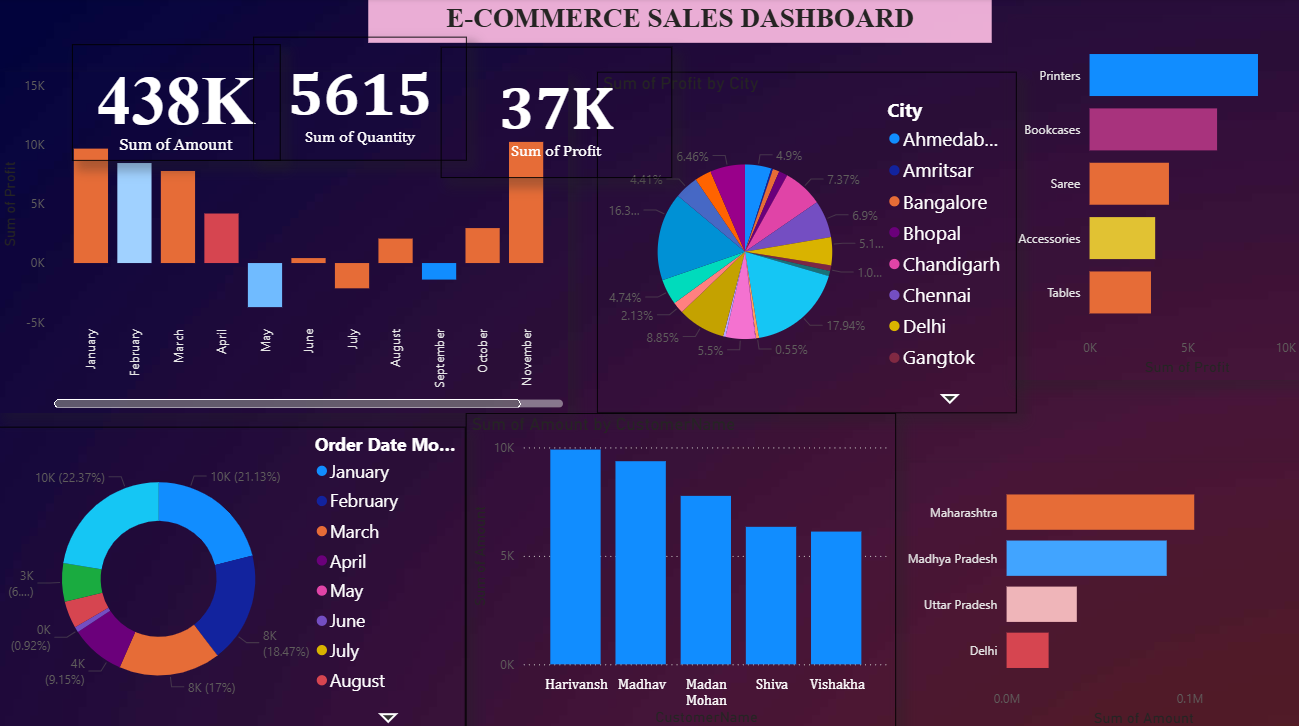

This screenshot's page, from the dashboard's own definition file:
{"tool":"powerbi","page":{"name":"Page 1","canvas":[1280,720],"ordinal":0},"visuals":[{"type":"textbox","box":[364.4,0,612.3,44.2],"z":0},{"type":"columnChart","fields":{"Category":["Orders.Order Date.Variation.Date Hierarchy.Month"],"Y":["Details.Profit"]},"box":[0,72.4,560.7,335],"z":1000},{"type":"donutChart","fields":{"Y":["Details.Profit"],"Category":["Orders.Order Date.Variation.Date Hierarchy.Month"]},"box":[0,420.9,460.1,299.4],"z":2000},{"type":"pieChart","fields":{"Y":["Details.Profit"],"Category":["Orders.City","Orders.Order Date.Variation.Date Hierarchy.Year","Orders.Order Date.Variation.Date Hierarchy.Quarter","Orders.Order Date.Variation.Date Hierarchy.Month","Orders.Order Date.Variation.Date Hierarchy.Day","Orders.CustomerName"]},"box":[589,72.4,412.3,335],"z":3000},{"type":"barChart","fields":{"Category":["Details.Sub-Category"],"Y":["Details.Profit"]},"box":[992.6,20.9,287.1,354.6],"z":4000},{"type":"card","fields":{"Values":["Details.Amount"]},"box":[73.6,45.4,204.9,114.1],"z":5000},{"type":"card","fields":{"Values":["Details.Quantity"]},"box":[251.5,38,209.8,121.5],"z":6000},{"type":"card","fields":{"Values":["Details.Profit"]},"box":[435.6,47.9,227,128.8],"z":7000},{"type":"barChart","fields":{"Category":["Orders.State"],"Y":["Details.Amount"]},"box":[882.2,456.4,397.5,263.8],"z":8000},{"type":"clusteredColumnChart","fields":{"Category":["Orders.CustomerName"],"Y":["Details.Amount"]},"box":[460.1,407.4,422.1,312.9],"z":9000}]}

Visuals, with their boxes in screenshot pixels (x1, y1, x2, y2), scaled from the page's 1280x720 canvas onto the 1299x726 screenshot:
textbox: [left=370, top=0, right=991, bottom=45]
columnChart - Orders.Order Date.Variation.Date Hierarchy.Month x Details.Profit: [left=0, top=73, right=569, bottom=411]
donutChart - Details.Profit x Orders.Order Date.Variation.Date Hierarchy.Month: [left=0, top=424, right=467, bottom=725]
pieChart - Details.Profit x Orders.City: [left=598, top=73, right=1016, bottom=411]
barChart - Details.Sub-Category x Details.Profit: [left=1007, top=21, right=1298, bottom=379]
card - Details.Amount: [left=75, top=46, right=283, bottom=161]
card - Details.Quantity: [left=255, top=38, right=468, bottom=161]
card - Details.Profit: [left=442, top=48, right=672, bottom=178]
barChart - Orders.State x Details.Amount: [left=895, top=460, right=1298, bottom=725]
clusteredColumnChart - Orders.CustomerName x Details.Amount: [left=467, top=411, right=895, bottom=725]
